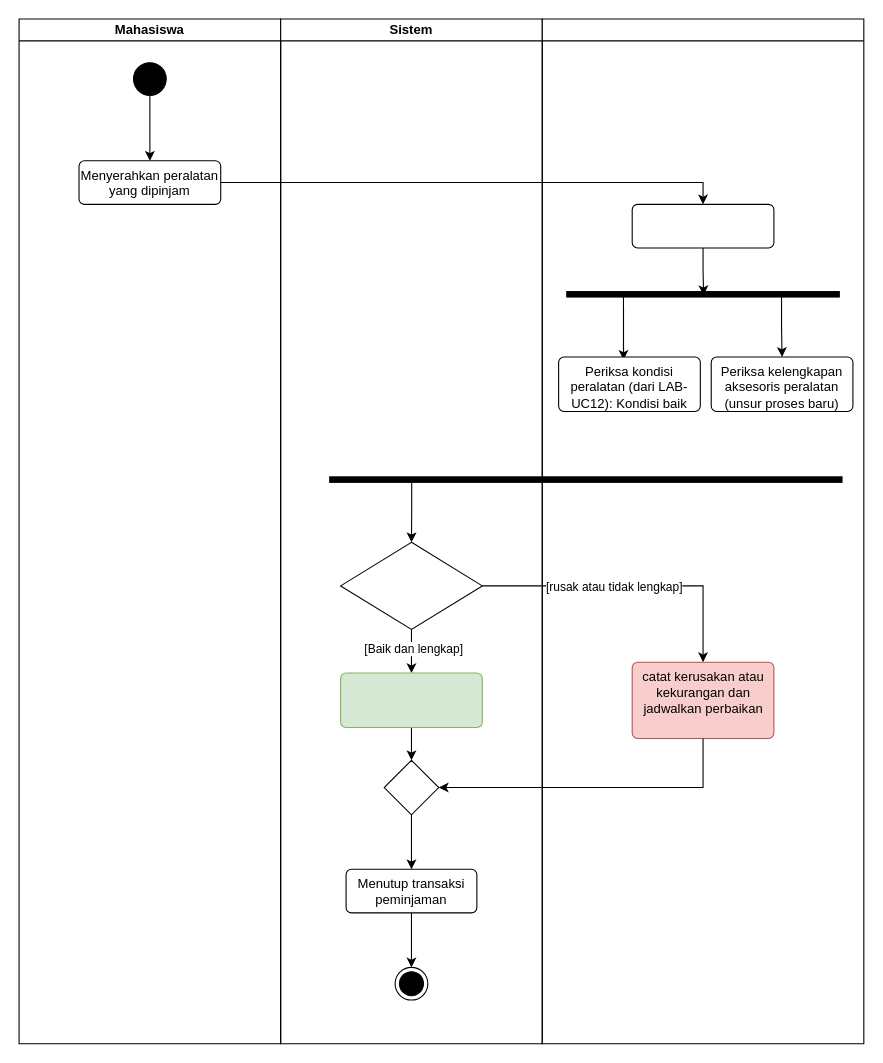
The diagram is 883 pixels wide and 1063 high, and some of its shapes have lost their labels. The shapes that lost their labels are listed below. From the top down, each one's box as (x1, y1, x2, y2) in pixels, then its label:
(631, 203, 774, 248): catat pengembalian peralatan (LAB-UC11)
(541, 18, 864, 1044): Petugas Laboratorium
(340, 541, 482, 629): Kondisi peralatan baik dan lengkap?
(340, 672, 482, 728): Perbarui status peralatan menjadi tersedia
